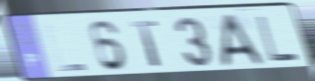3: (175, 15, 215, 69)
6: (87, 18, 127, 74)
A: (221, 12, 268, 69)
L: (42, 23, 90, 74), (255, 14, 302, 63)
T: (127, 19, 164, 69)
